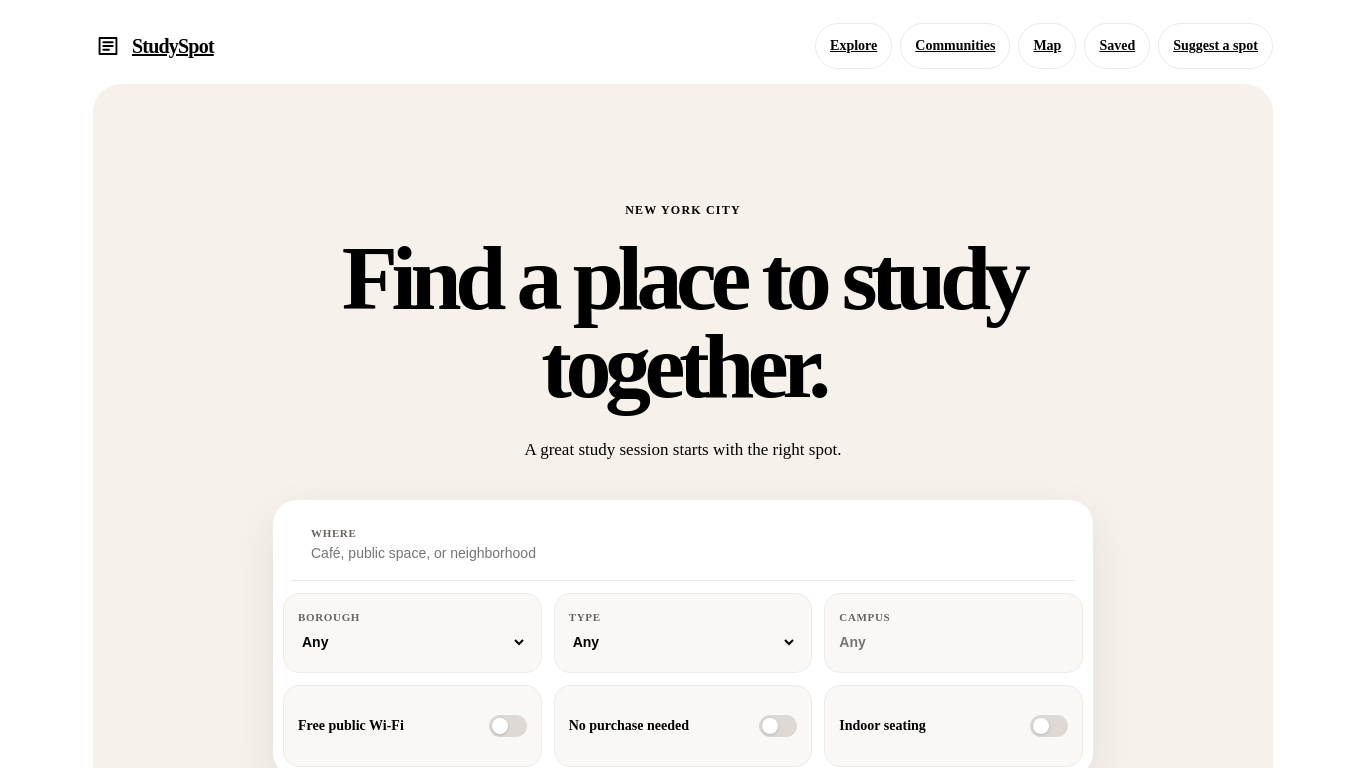
Test case: the indoor-seating filter › asks the API for the spots with a recorded yes
Click the checkbox labelled "Indoor seating": (954,726) 824,685 -> 1083,767
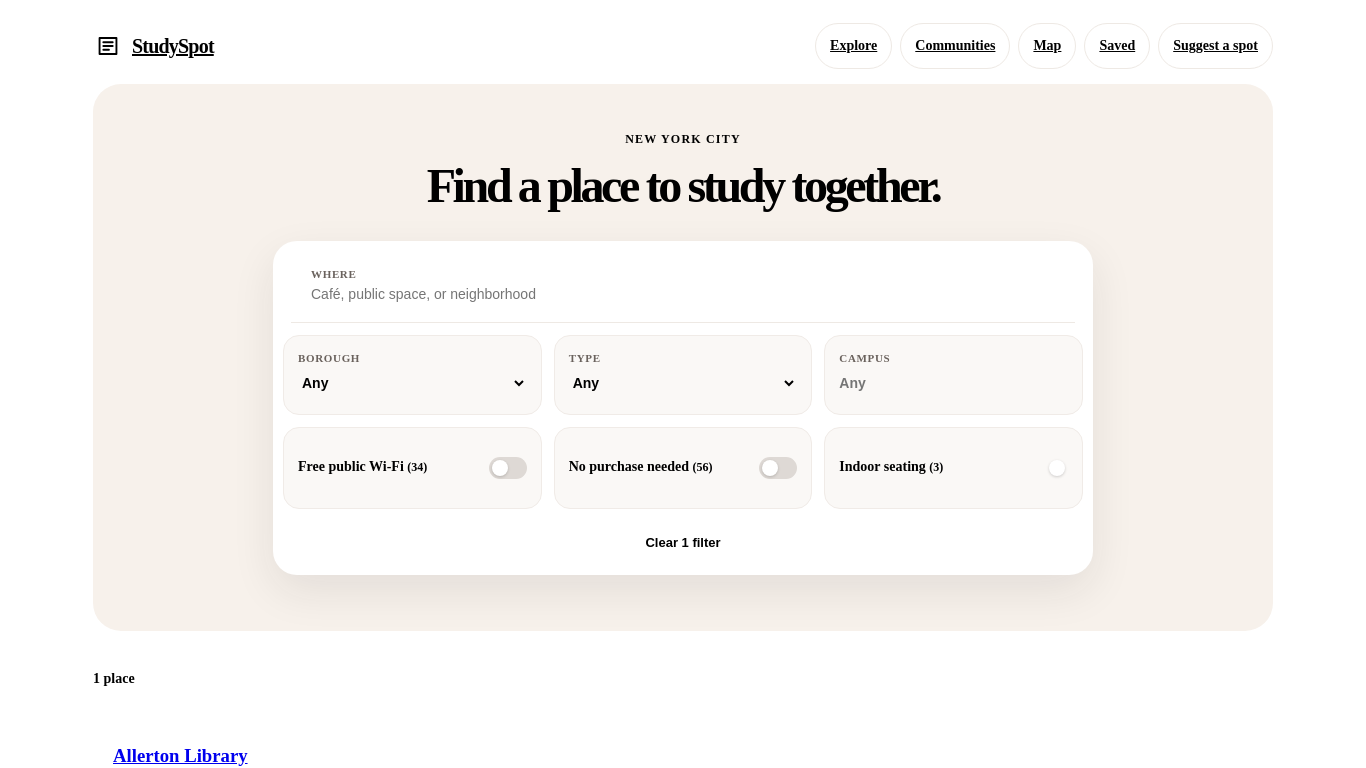
Check: the link "Allerton Library" is shown, box 113,745 -> 248,766
